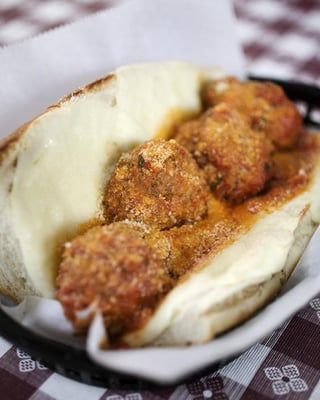soup: (51, 77, 320, 352)
